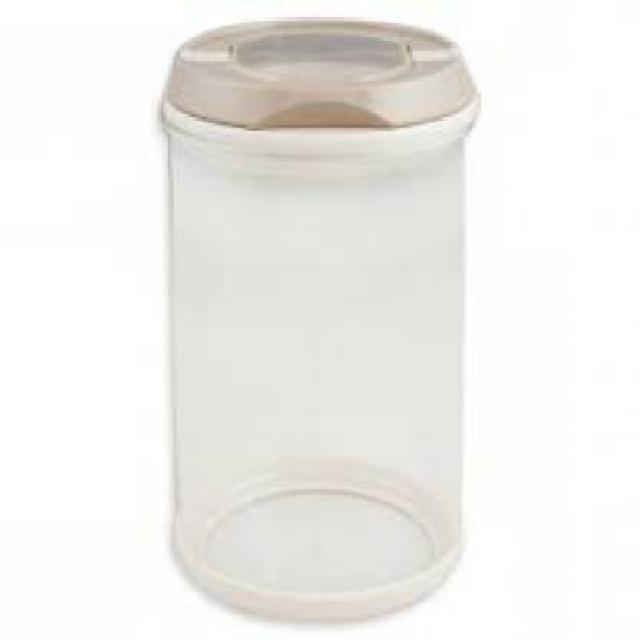GLASS: (167, 106, 478, 620)
PLASTIC: (159, 17, 481, 145)
